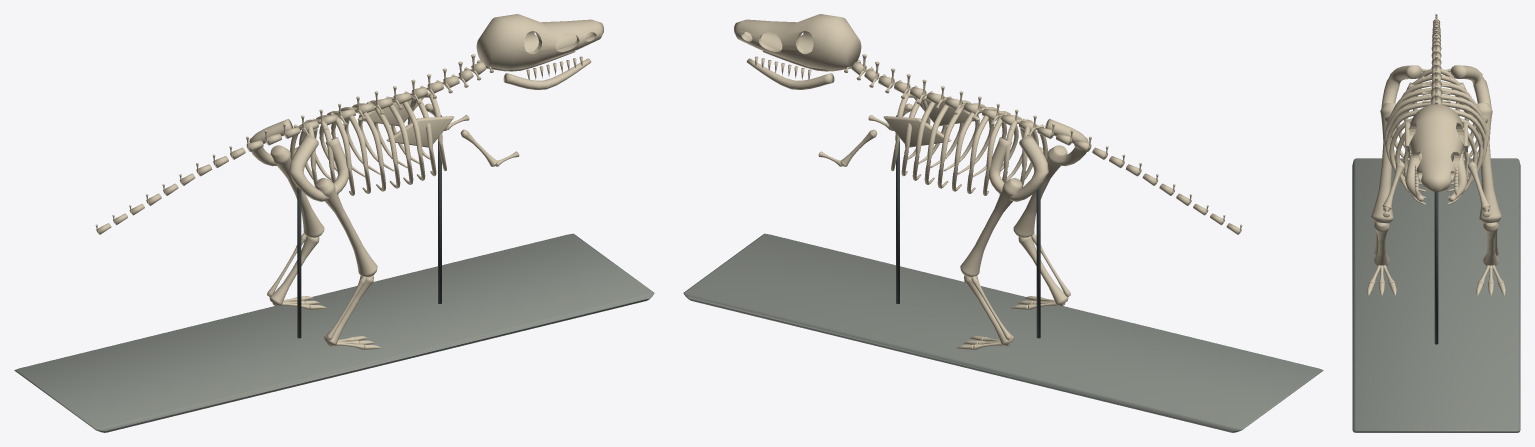
Rendered from TheropodSkeleton.glb.
3 renders of one model, left to right at view 1: azimuth 30°, elevation 25°; view 2: azimuth 150°, elevation 25°; view 3: azimuth 270°, elevation 25°, orthographic.
Visible parts, largest first — view 1: Low chamfered display slab, Fenestrated dinosaur cranium, Open pelvic girdle, Femur with shaped condyles, Femur with shaped condyles.001, Shaped scapula, Curved lower jaw, Open pelvic girdle.001, Steel conservation support, Tibia and ankle.001, Steel conservation support.001; view 2: Low chamfered display slab, Fenestrated dinosaur cranium, Open pelvic girdle.001, Femur with shaped condyles.001, Femur with shaped condyles, Shaped scapula.001, Curved lower jaw.001, Open pelvic girdle, Steel conservation support, Tibia and ankle, Steel conservation support.001; view 3: Low chamfered display slab, Fenestrated dinosaur cranium, Femur with shaped condyles.001, Femur with shaped condyles, Open pelvic girdle, Open pelvic girdle.001, Steel conservation support.001, Tibia and ankle, Tibia and ankle.001, Curved lower jaw, Curved lower jaw.001, Curved thoracic rib.012 (+15 smaller).
Boxes of the visible parts, x1=… form: Low chamfered display slab: x1=14, y1=233, x2=654, y2=432; Fenestrated dinosaur cranium: x1=476, y1=14, x2=603, y2=70; Open pelvic girdle: x1=289, y1=136, x2=349, y2=201; Femur with shaped condyles: x1=315, y1=178, x2=377, y2=277; Femur with shaped condyles.001: x1=270, y1=145, x2=324, y2=237; Shaped scapula: x1=386, y1=116, x2=454, y2=147; Curved lower jaw: x1=503, y1=58, x2=591, y2=89; Open pelvic girdle.001: x1=249, y1=118, x2=317, y2=166; Steel conservation support: x1=297, y1=187, x2=301, y2=338; Tibia and ankle.001: x1=269, y1=236, x2=319, y2=305; Steel conservation support.001: x1=438, y1=115, x2=441, y2=303; Low chamfered display slab: x1=683, y1=233, x2=1323, y2=432; Fenestrated dinosaur cranium: x1=734, y1=14, x2=861, y2=70; Open pelvic girdle.001: x1=988, y1=136, x2=1048, y2=201; Femur with shaped condyles.001: x1=960, y1=178, x2=1022, y2=277; Femur with shaped condyles: x1=1013, y1=145, x2=1067, y2=237; Shaped scapula.001: x1=883, y1=116, x2=951, y2=147; Curved lower jaw.001: x1=746, y1=58, x2=834, y2=89; Open pelvic girdle: x1=1020, y1=118, x2=1088, y2=166; Steel conservation support: x1=1036, y1=186, x2=1040, y2=338; Tibia and ankle: x1=1018, y1=236, x2=1068, y2=305; Steel conservation support.001: x1=896, y1=115, x2=899, y2=303; Low chamfered display slab: x1=1352, y1=158, x2=1520, y2=432; Fenestrated dinosaur cranium: x1=1409, y1=104, x2=1463, y2=192; Femur with shaped condyles.001: x1=1476, y1=103, x2=1501, y2=223; Femur with shaped condyles: x1=1371, y1=103, x2=1396, y2=223; Open pelvic girdle: x1=1381, y1=65, x2=1422, y2=123; Open pelvic girdle.001: x1=1450, y1=65, x2=1491, y2=123; Steel conservation support.001: x1=1434, y1=192, x2=1438, y2=344; Tibia and ankle: x1=1374, y1=222, x2=1389, y2=265; Tibia and ankle.001: x1=1483, y1=222, x2=1498, y2=265; Curved lower jaw: x1=1405, y1=153, x2=1423, y2=201; Curved lower jaw.001: x1=1449, y1=153, x2=1467, y2=201; Curved thoracic rib.012: x1=1385, y1=109, x2=1422, y2=184.
Bounding box in the file's own units: 5.57 × 2.64 × 1.45.
